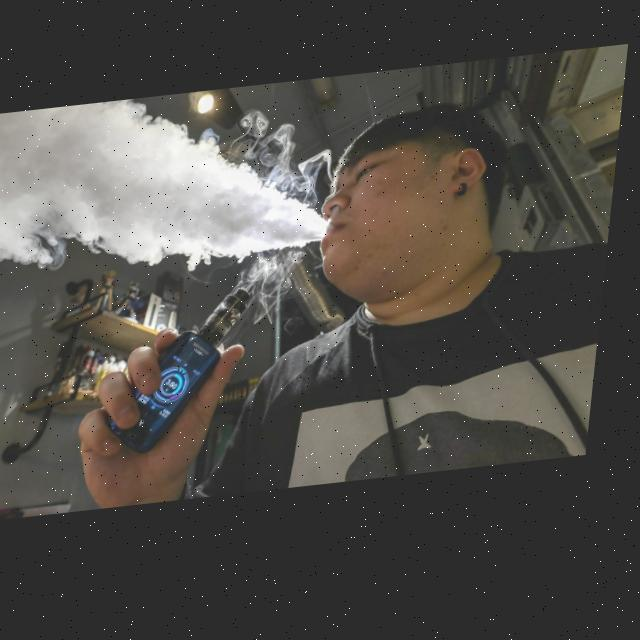vape: (114, 293, 259, 459)
